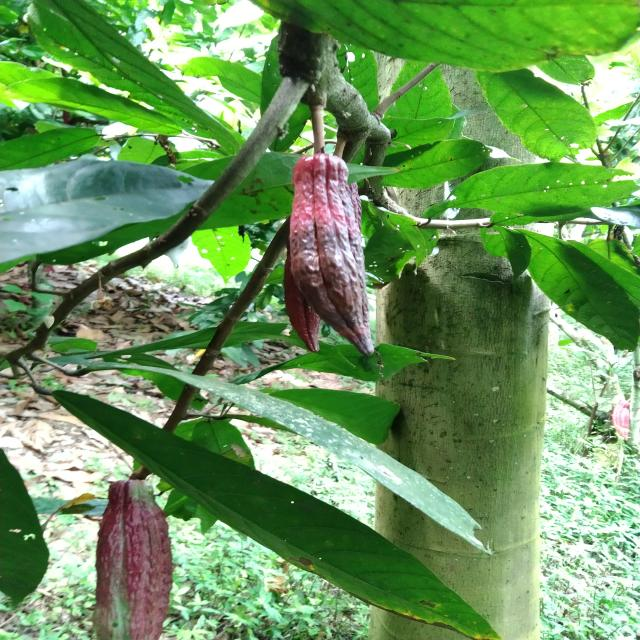Fitoftora: (285, 154, 388, 357)
Sana: (89, 477, 172, 640)
